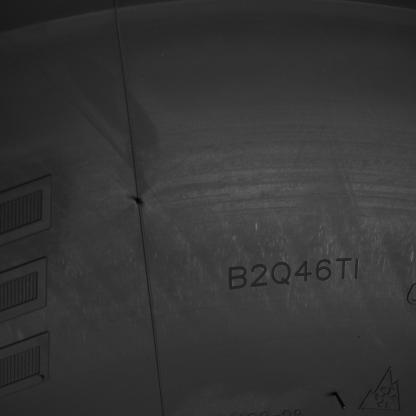ocr: (228, 256, 362, 290)
